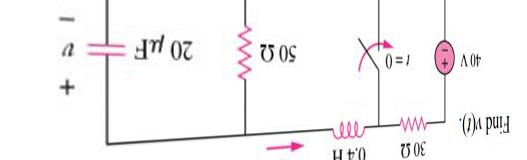inductor: (310, 114, 372, 142)
